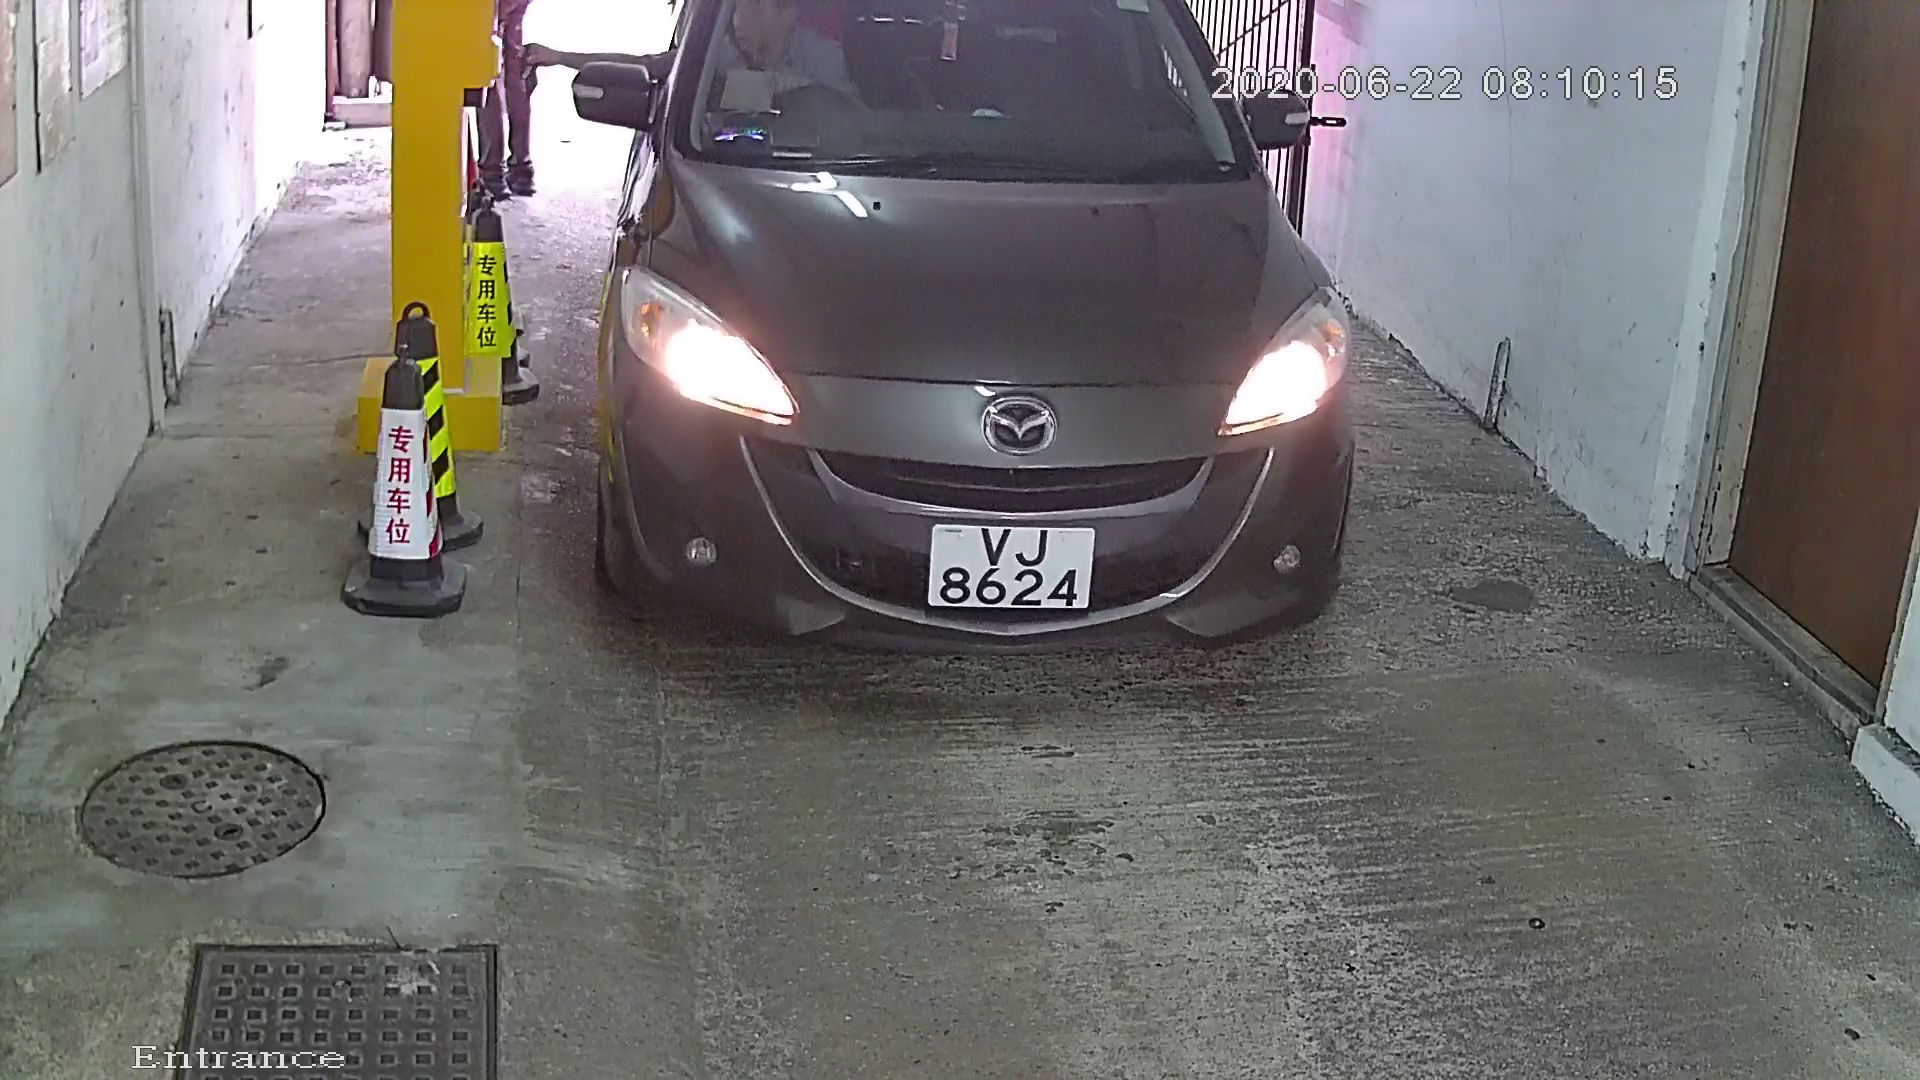privatecar: (618, 3, 1398, 740)
